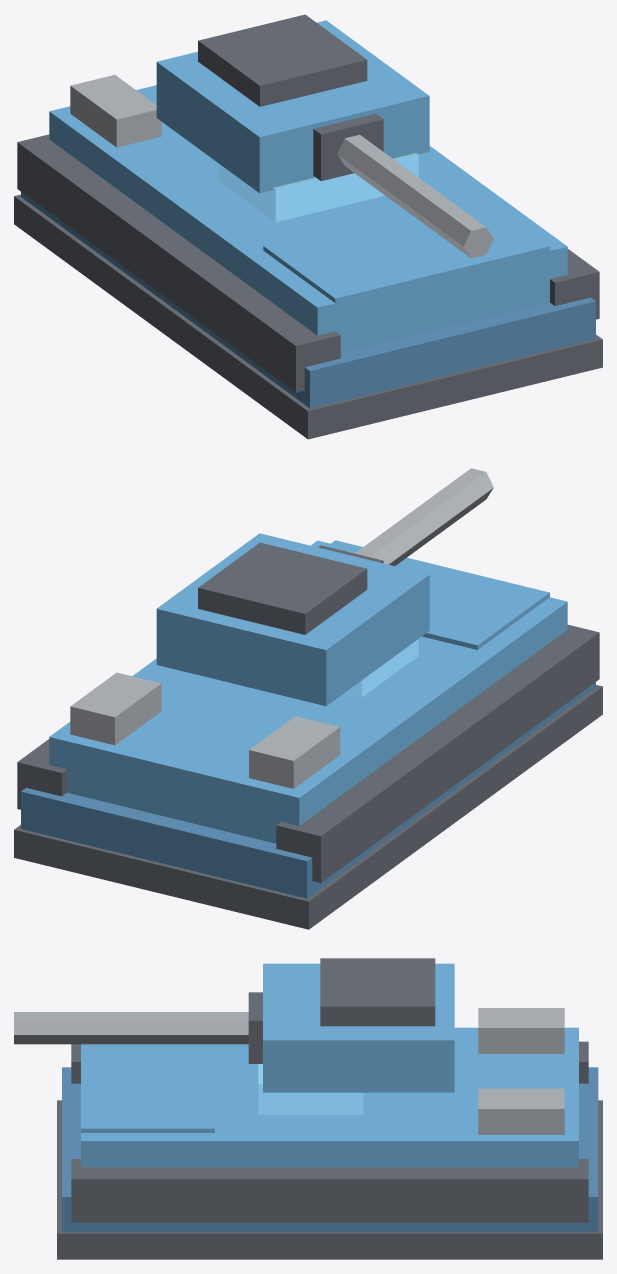
File: walrus.glb
The picture shows the model from 3 angles, top to bottom: view 1: azimuth 30°, elevation 25°; view 2: azimuth 150°, elevation 25°; view 3: azimuth 270°, elevation 25°; orthographic projection. The views are drawn at different scales.
Parts seen in each view (by area): view 1: walrus, turret; view 2: walrus, turret; view 3: walrus, turret.
Boxes of the visible parts, <box> form: walrus: <box>14,75,602,439</box>; turret: <box>156,14,493,258</box>; walrus: <box>14,540,602,929</box>; turret: <box>156,468,493,706</box>; walrus: <box>57,1008,602,1259</box>; turret: <box>14,958,454,1092</box>.
Bounding box in the file's own units: 3.4 × 2.42 × 6.15.
